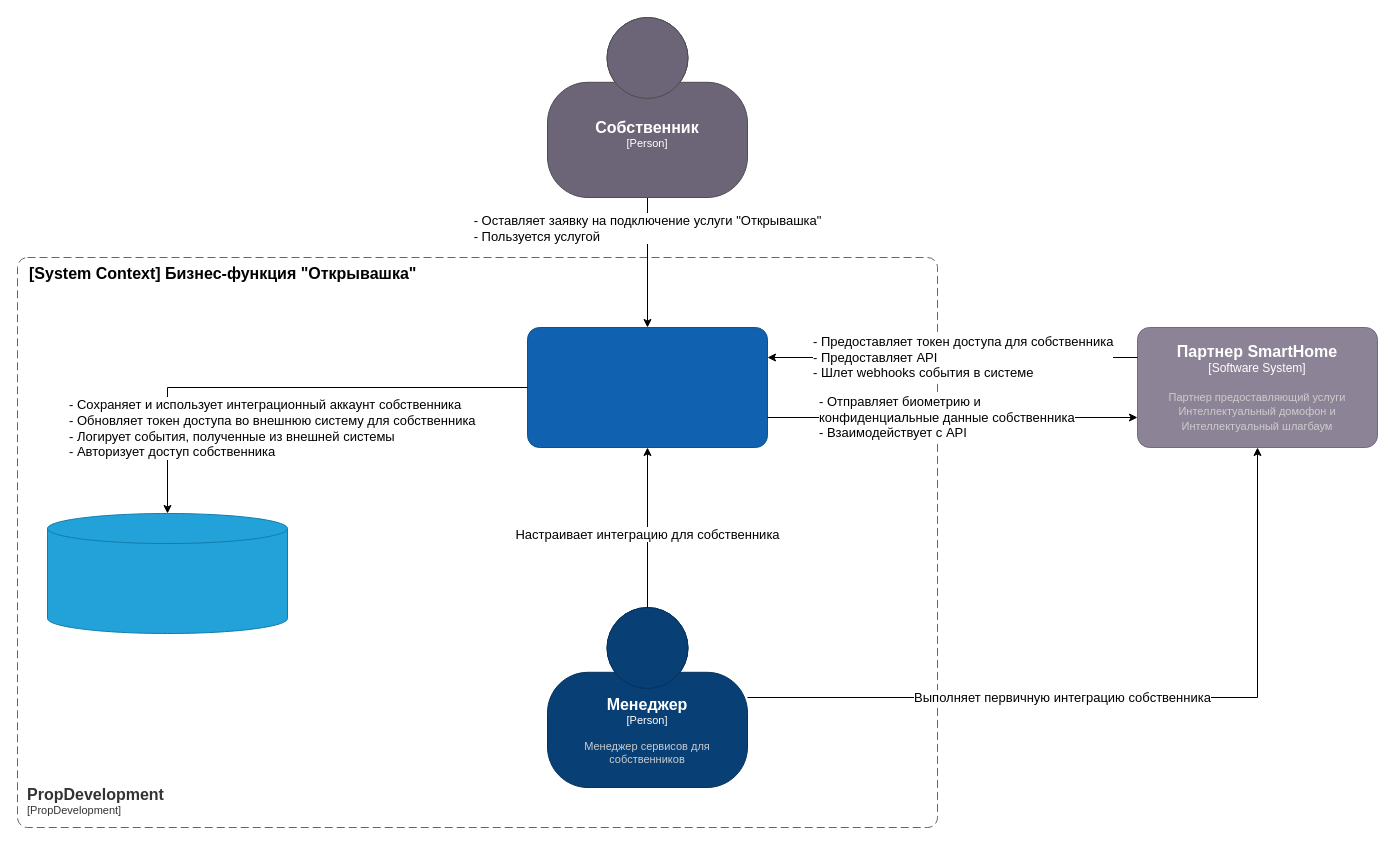
This 1395x845 diagram has some shape labels left out. The centre of each missing label's shape, as x and y in pixels:
"tenant-core-db [Container: PostgreSql] БД сервисов ЖКХ" belongs at point 167,573.
"Сервисы для собственников [Software System]" belongs at point 647,387.
